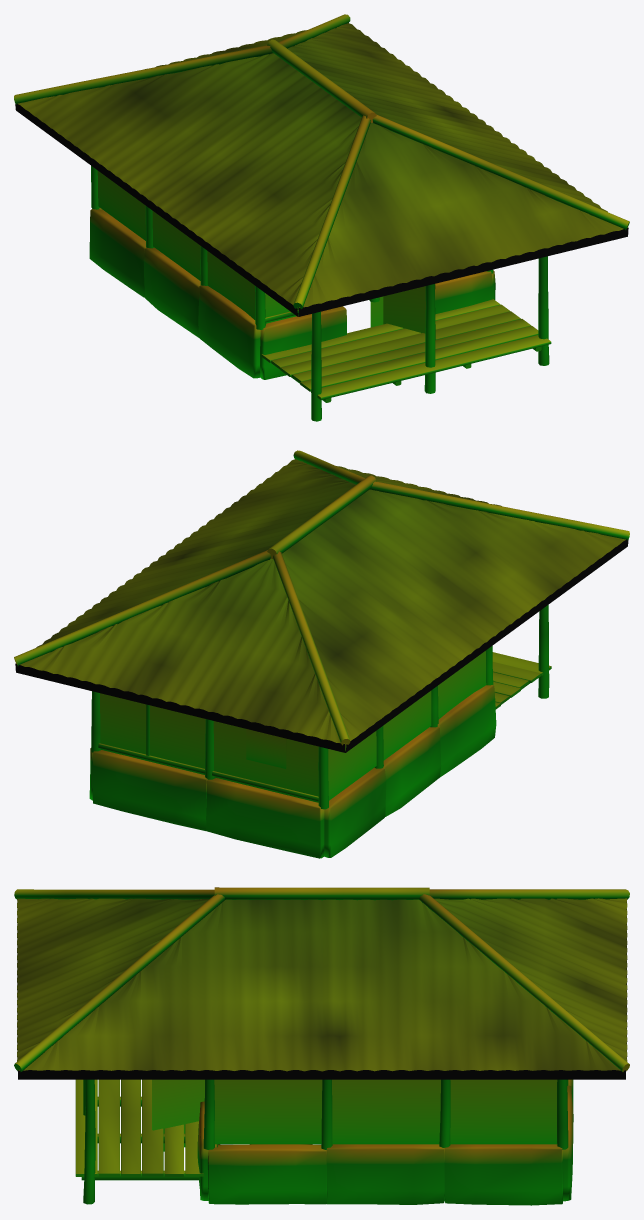
File: house_tile_b.glb
The picture shows the model from 3 angles, top to bottom: view 1: azimuth 30°, elevation 25°; view 2: azimuth 150°, elevation 25°; view 3: azimuth 270°, elevation 25°; orthographic projection. The views are drawn at different scales.
Visible parts, largest first — view 1: house_tile_b; view 2: house_tile_b; view 3: house_tile_b.
Part boxes in pixels (left/top/right/bottom): house_tile_b: left=14, top=14, right=629, bottom=421; house_tile_b: left=14, top=450, right=629, bottom=858; house_tile_b: left=14, top=887, right=629, bottom=1205.
Size of what is drawn, in the model's own units: 5.91 by 3.99 by 8.71.
